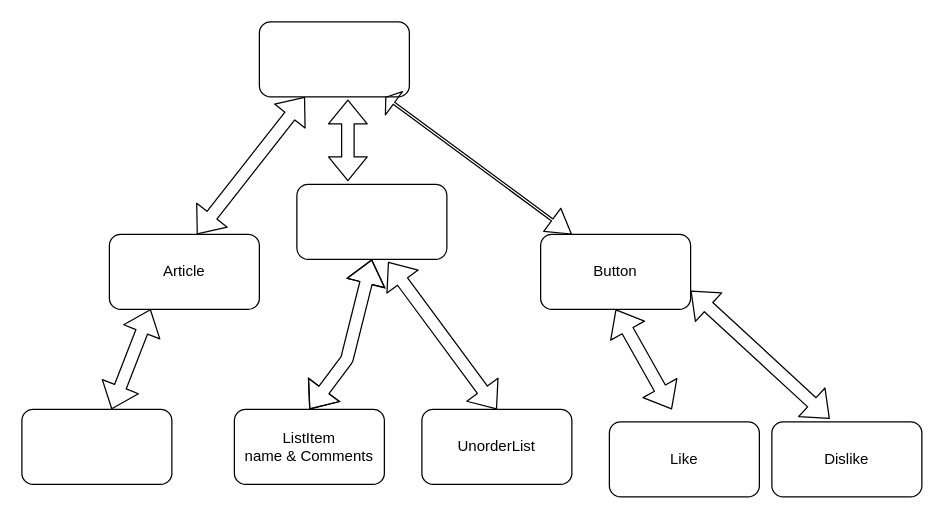
Some shapes in this 944 by 519 pixel diagram are drawn without their labels. Here are the shapes that lost their labels. From the top down, the centre of each, then its label:
the point at 333,59: App
the point at 371,221: Comment Section
the point at 96,446: Heading and Paragrap
